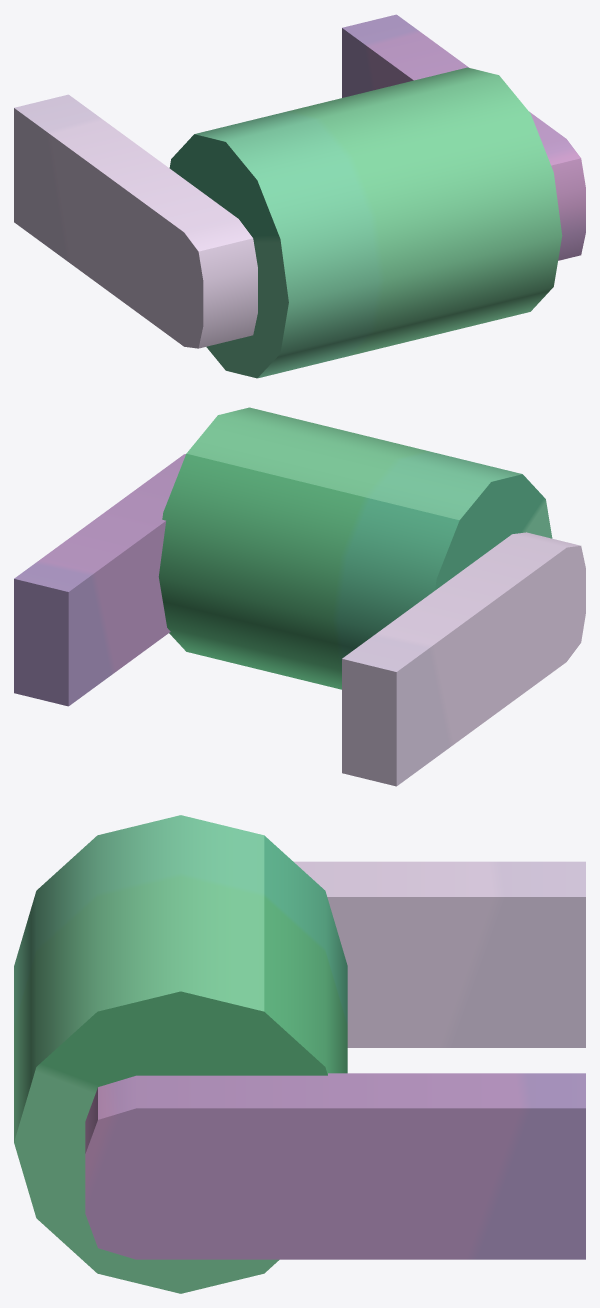
The model's file is Lap_Stand.fbx.
3 views of the same model, one above another, from view 1: azimuth 30°, elevation 25°; view 2: azimuth 150°, elevation 25°; view 3: azimuth 270°, elevation 25° (orthographic). The views are drawn at different scales.
Parts seen in each view (by area): view 1: Lap_Stand; view 2: Lap_Stand; view 3: Lap_Stand.
Boxes of the visible parts, x1=… form: Lap_Stand: x1=14, y1=14, x2=585, y2=378; Lap_Stand: x1=14, y1=407, x2=585, y2=786; Lap_Stand: x1=14, y1=815, x2=585, y2=1293.
Size of the model in its own units: 35 by 20 by 34.27.
